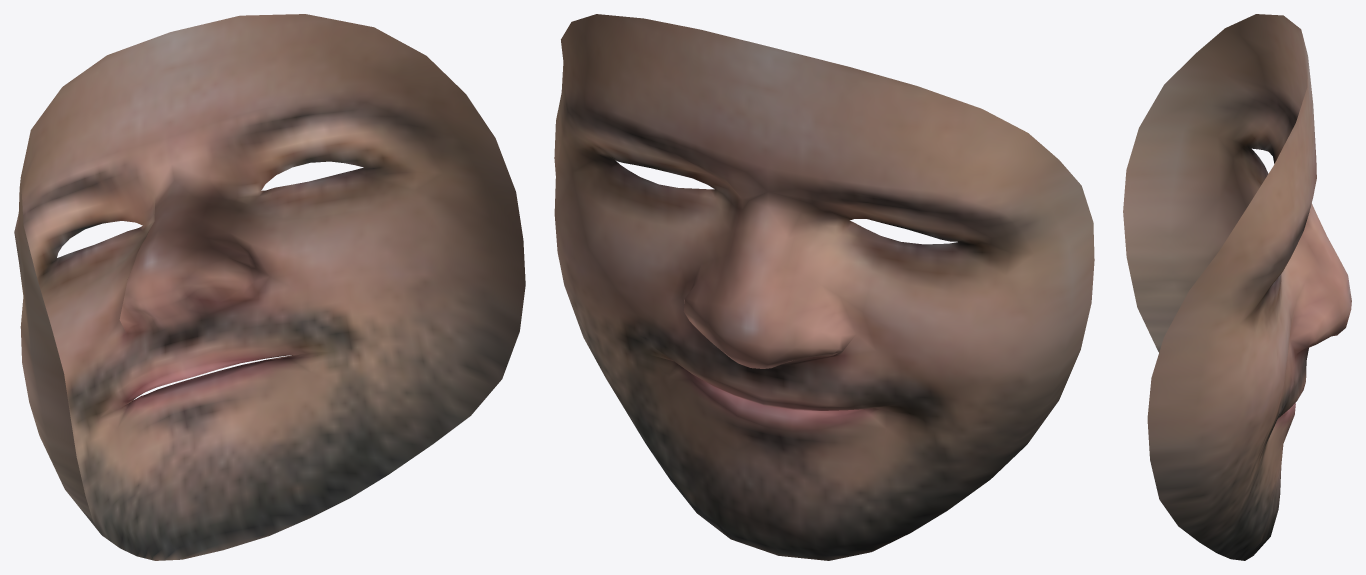
The model's file is face-scan.glb.
The picture shows the model from 3 angles, left to right: view 1: azimuth 30°, elevation 25°; view 2: azimuth 150°, elevation 25°; view 3: azimuth 270°, elevation 25°; orthographic projection. The views are drawn at different scales.
Visible parts, largest first — view 1: FaceScan; view 2: FaceScan; view 3: FaceScan.
Boxes of the visible parts, left/top/right/bottom form: FaceScan: left=14, top=14, right=525, bottom=560; FaceScan: left=554, top=14, right=1094, bottom=560; FaceScan: left=1123, top=14, right=1351, bottom=560.
Size of the model in its own units: 14 by 14 by 6.16.
Materials: 1 (1 with a texture image).
